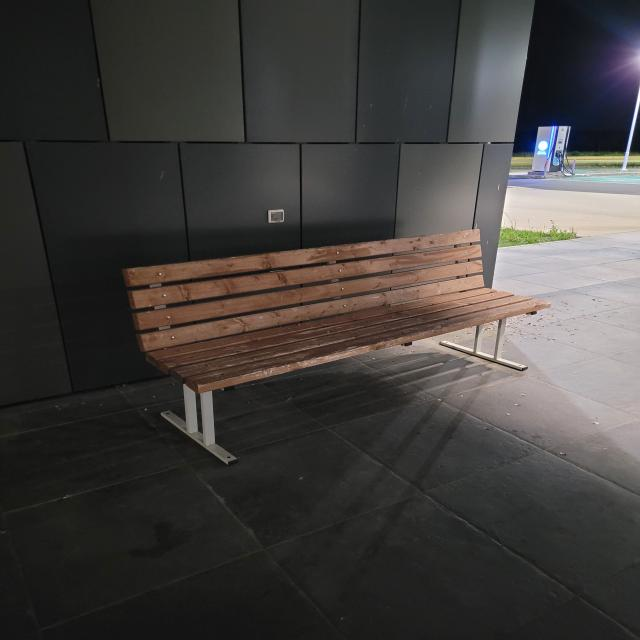Bench: (123, 229, 551, 465)
